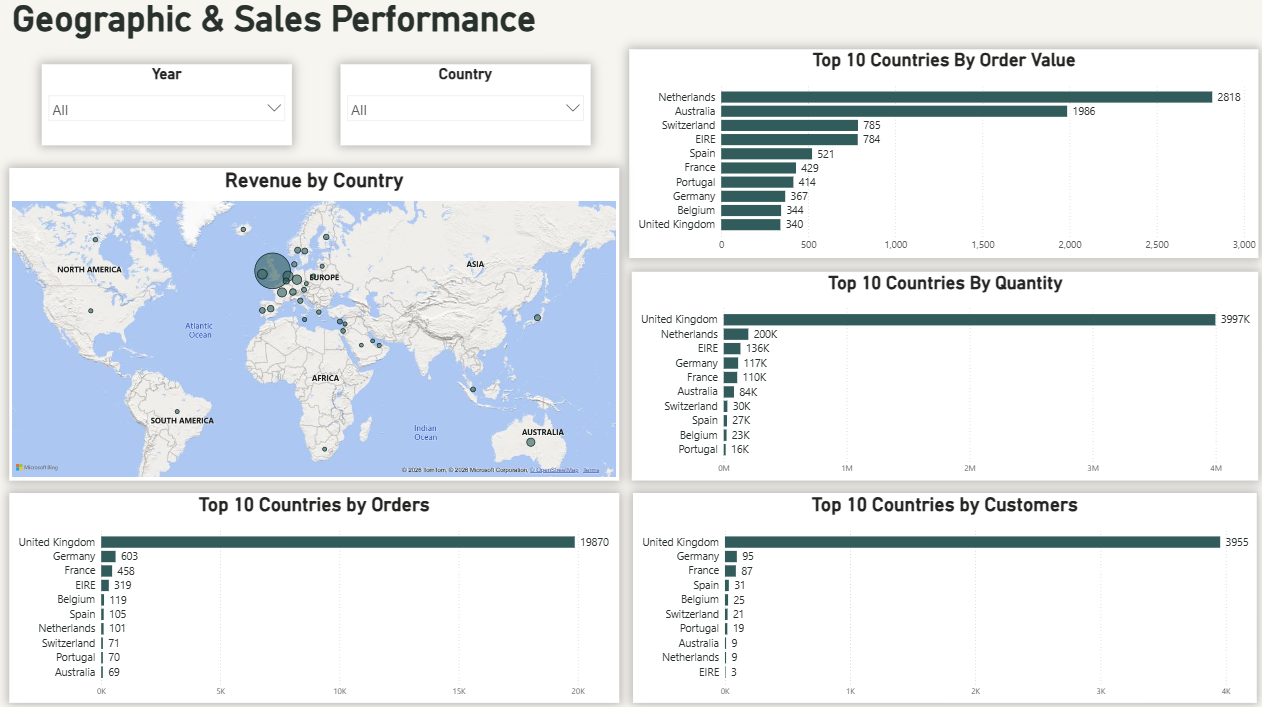

The page's visual inventory and layout, read from the dashboard file:
{"tool":"powerbi","page":{"name":"Sales & Geographic Analysis","canvas":[1920,1080],"ordinal":2},"visuals":[{"type":"textbox","title":"Geographic & Sales Performance","box":[24.5,0,805.7,77.4],"z":0},{"type":"barChart","title":"Top 10 Countries by Orders","fields":{"Category":["online_retail.Country"],"Y":["Mesure.Totla Orders"]},"box":[24.5,747.2,920.8,317],"z":1000},{"type":"barChart","title":"Top 10 Countries By Quantity","fields":{"Category":["online_retail.Country"],"Y":["Sum(online_retail.Quantity)"]},"box":[964.2,413.2,947.2,315.1],"z":2000},{"type":"barChart","title":"Top 10 Countries by Customers","fields":{"Category":["online_retail.Country"],"Y":["Mesure.Total Customers"]},"box":[966,747.2,941.5,317],"z":3000},{"type":"barChart","title":"Top 10 Countries By Order Value","fields":{"Category":["online_retail.Country"],"Y":["Mesure.AVG. Order Value"]},"box":[960.4,77.4,950.9,315.1],"z":4000},{"type":"slicer","title":"Country","fields":{"Values":["online_retail.Country"]},"box":[524.5,100,377.4,122.6],"z":5000},{"type":"slicer","title":"Year","fields":{"Values":["online_retail.InvoiceDate.Variation.Date Hierarchy.Year"]},"box":[73.6,100,377.4,122.6],"z":6000},{"type":"map","title":" Revenue by Country","fields":{"Category":["online_retail.Country"],"Size":["Mesure.Total Revenue"]},"box":[24.5,256.6,920.8,471.7],"z":7000}]}

Visuals, with their boxes in screenshot pixels (x1, y1, x2, y2), scaled from the page's 1920x1080 canvas onto the 1262x707 screenshot:
"Geographic & Sales Performance" textbox: 16 0 546 51
"Top 10 Countries by Orders" barChart: 16 489 621 697
"Top 10 Countries By Quantity" barChart: 634 270 1256 477
"Top 10 Countries by Customers" barChart: 635 489 1254 697
"Top 10 Countries By Order Value" barChart: 631 51 1256 257
"Country" slicer: 345 65 593 146
"Year" slicer: 48 65 296 146
" Revenue by Country" map: 16 168 621 477
